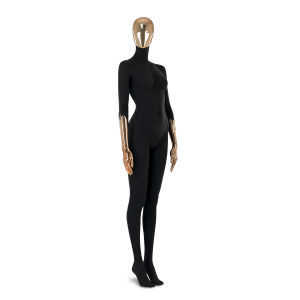person-like: (112, 13, 184, 290)
